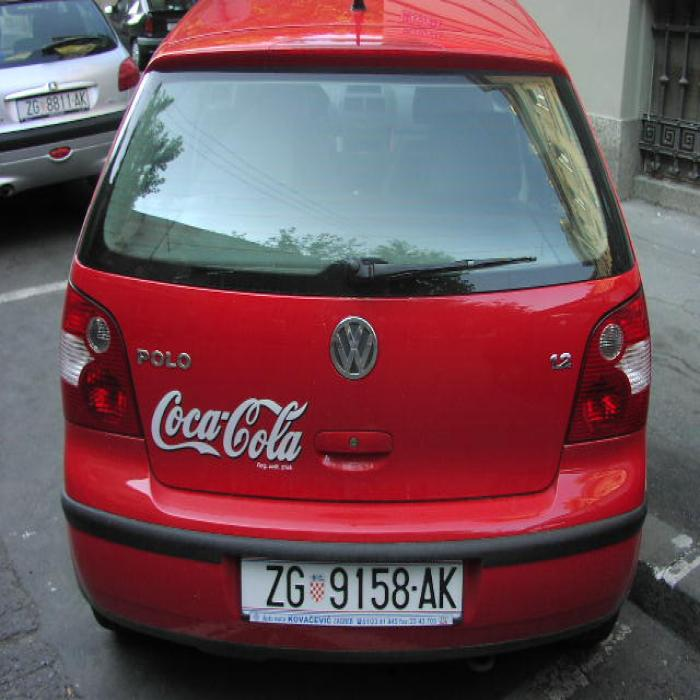number_plate: (239, 561, 462, 612)
